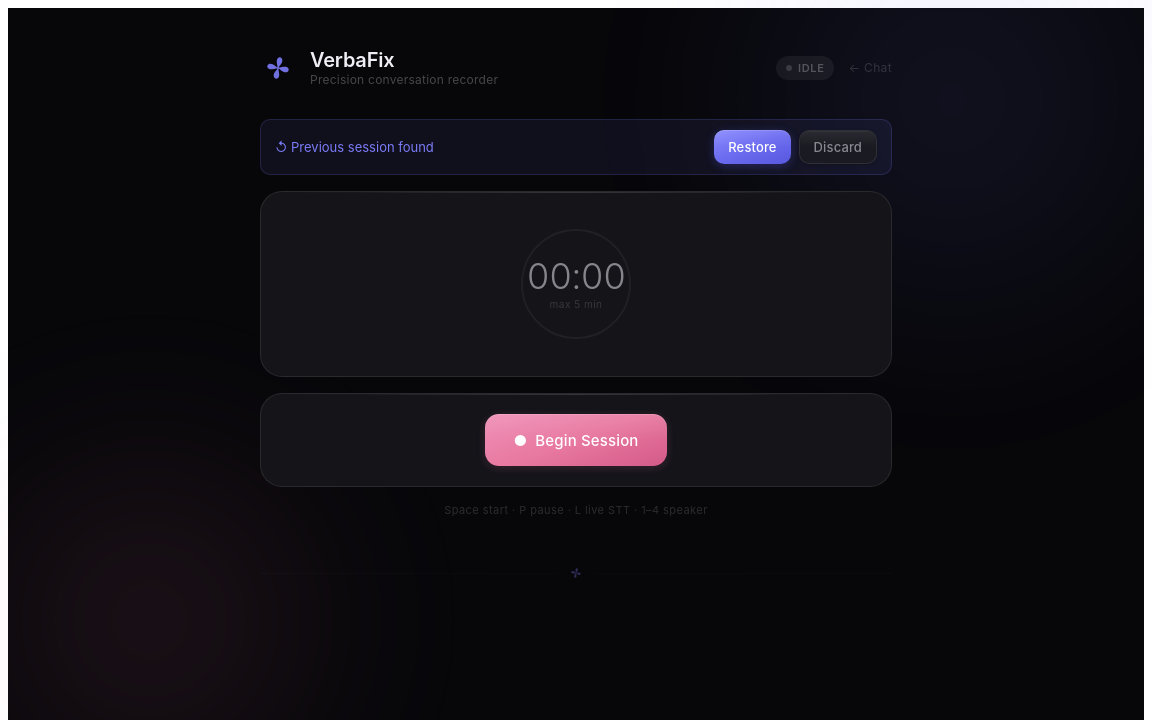
VerbaFix component › localStorage draft detection › restoring draft with speakerNames updates speaker label inputs
Step 1. Click the button "Restore" → (752,147), box [714, 130, 791, 164]
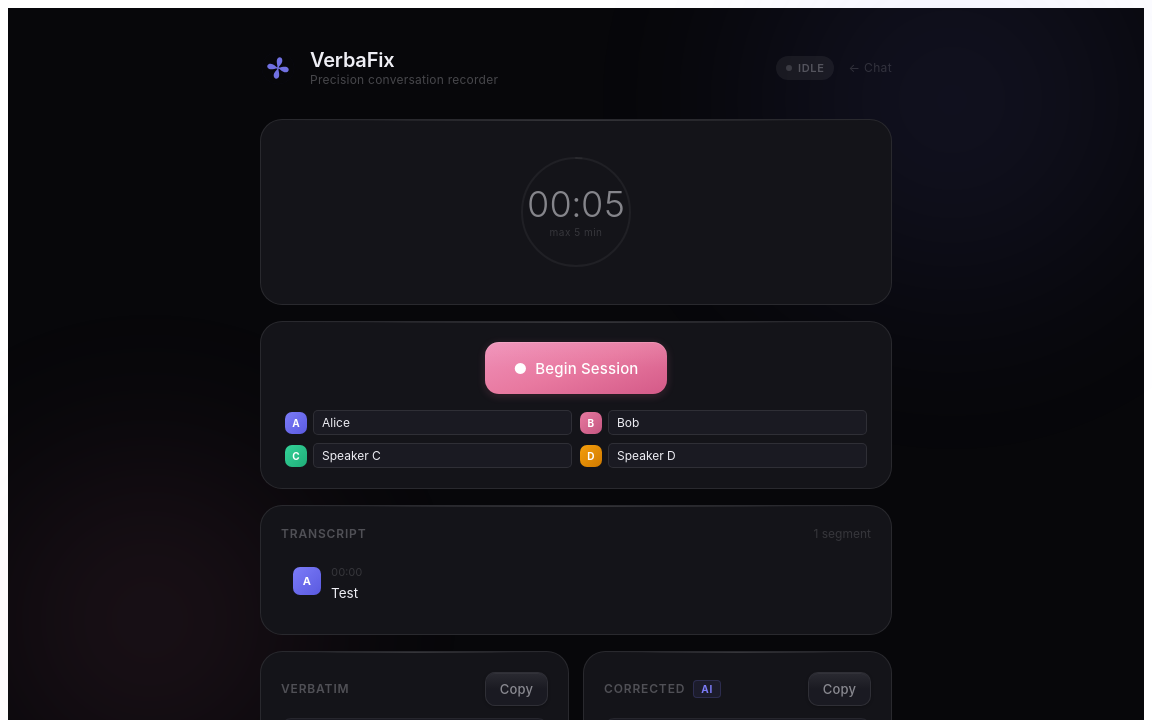
Now the field named "Name for speaker A" holds "Alice", box [313, 410, 572, 435]
